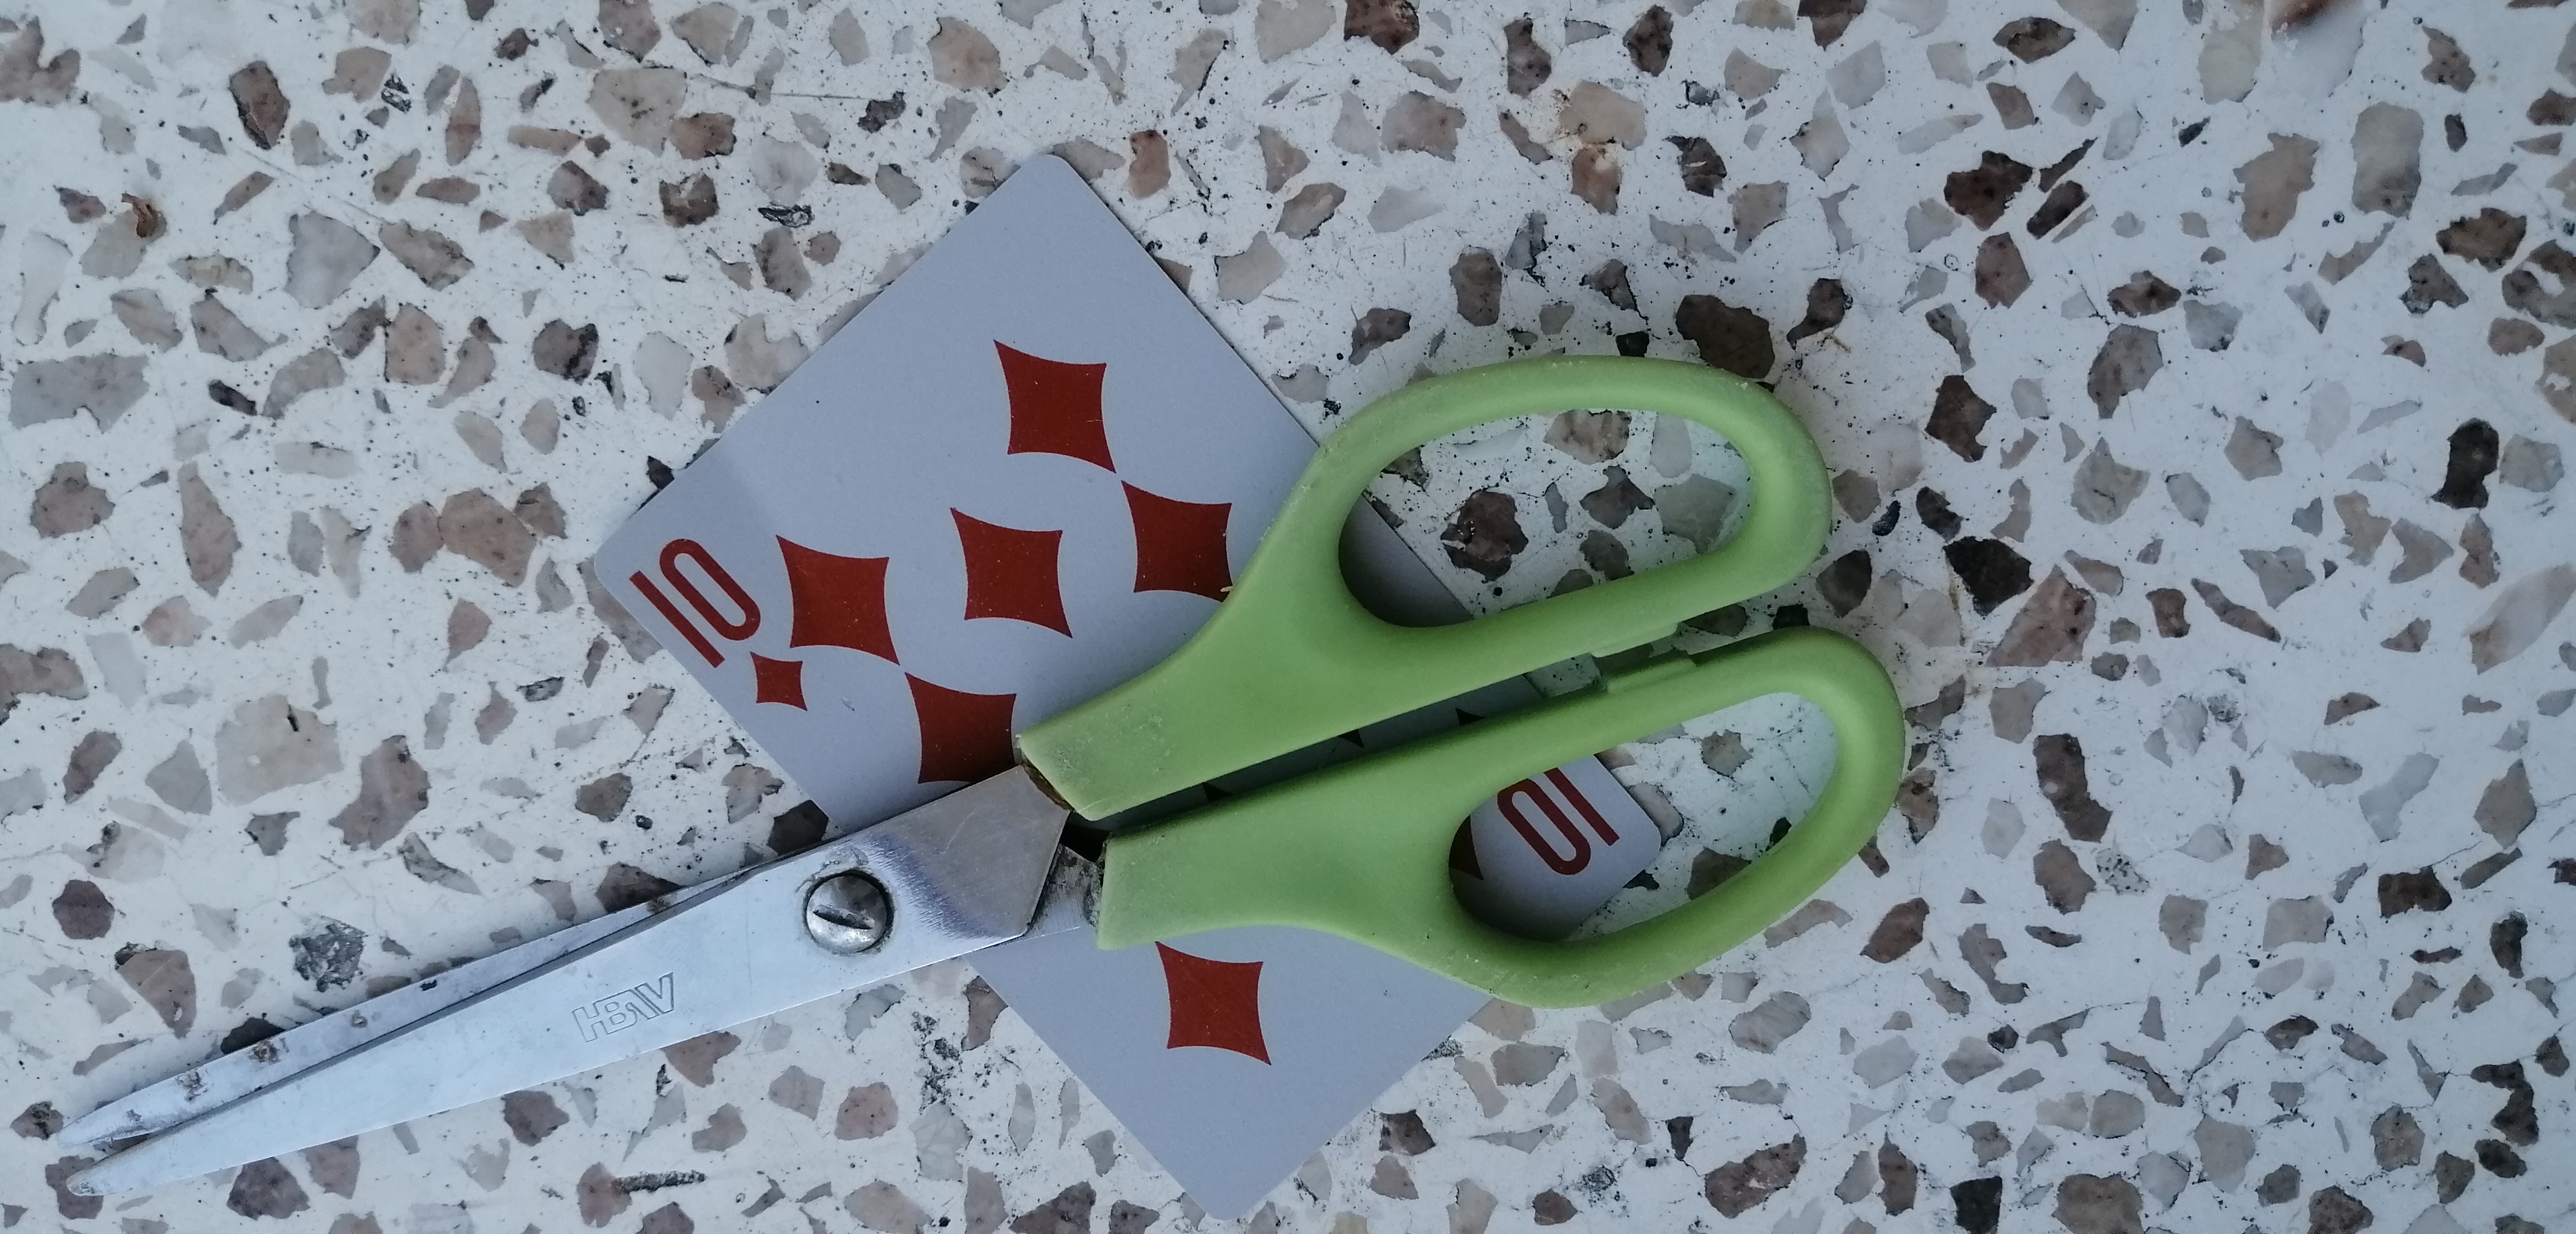ten: (559, 158, 1626, 1015)
